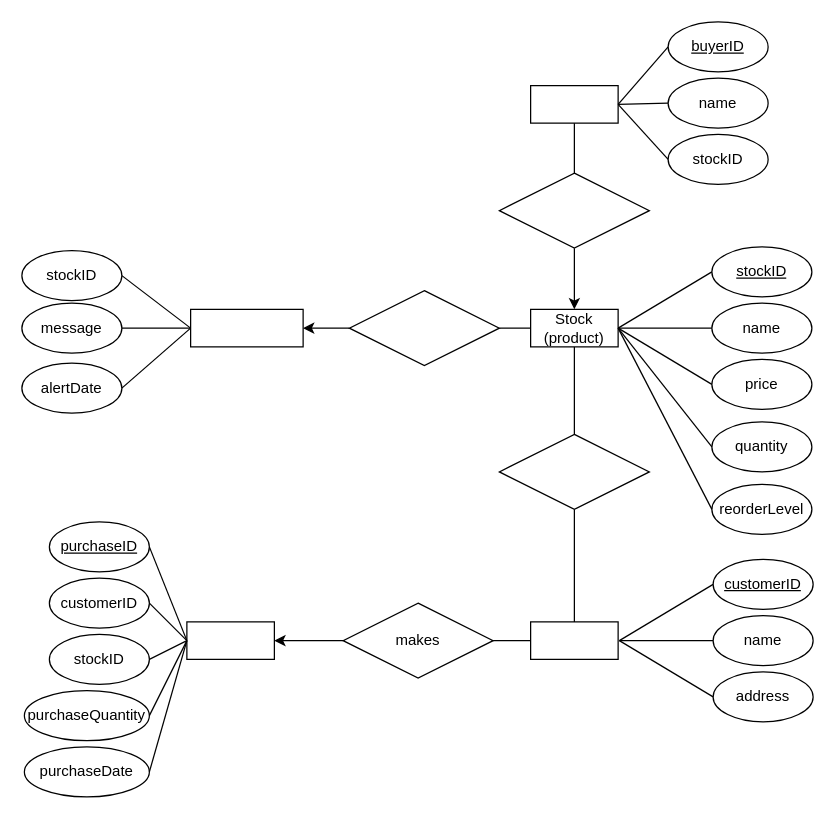
Image size: 835x819. Some labels were removed from this diagram. Here are the shapes that lost their labels. From the top down, the centre of each, then its label:
At pixel 573 103: "Buyer".
At pixel 573 210: "supplies".
At pixel 246 327: "InventoryAlerts".
At pixel 423 327: "triggers".
At pixel 573 471: "purchases".
At pixel 230 640: "Purchase (transaction)".
At pixel 573 640: "Customer".
